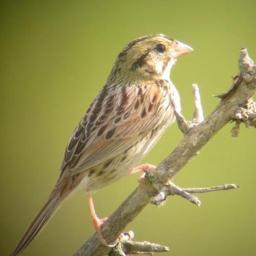Sparrow: (7, 30, 196, 254)
